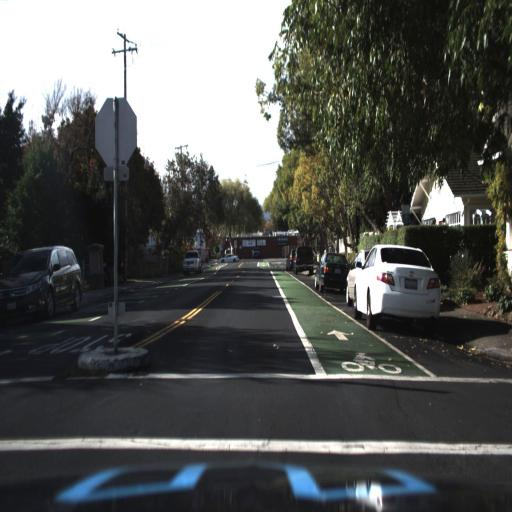car: (356, 243, 442, 337), (1, 243, 82, 324), (337, 247, 377, 317), (312, 254, 349, 295), (180, 247, 203, 275), (294, 241, 315, 271), (215, 247, 239, 267)
